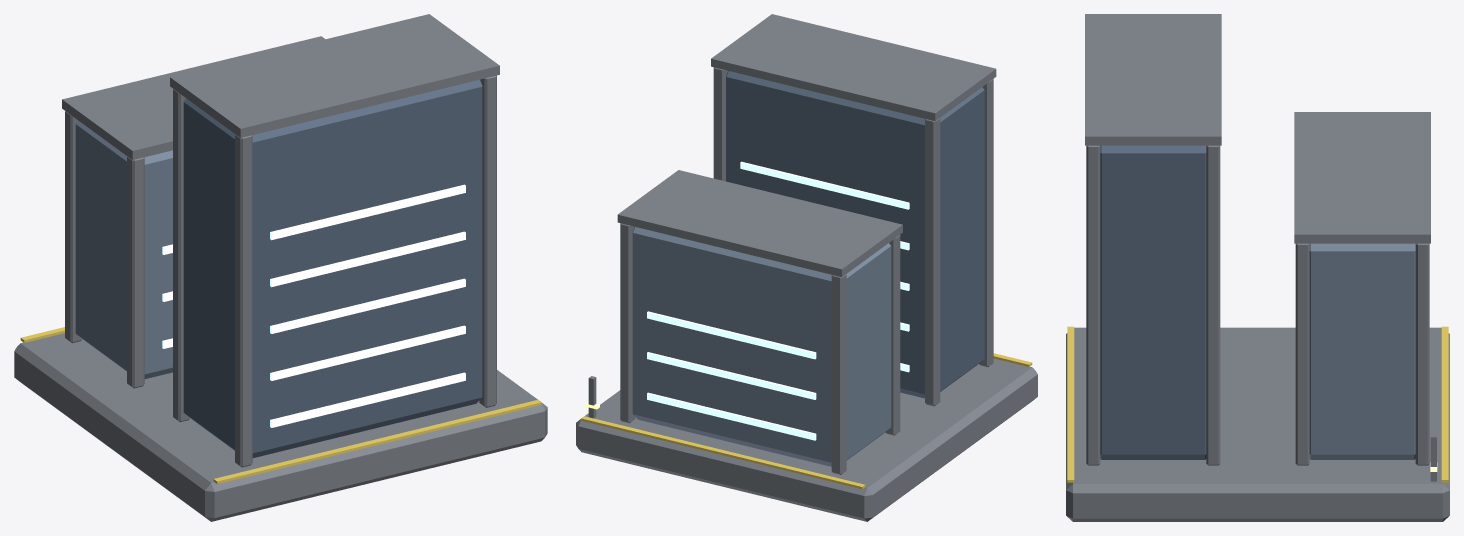
Rendered from zone_high_5_t1.glb.
3 renders of one model, left to right at view 1: azimuth 30°, elevation 25°; view 2: azimuth 150°, elevation 25°; view 3: azimuth 270°, elevation 25°, orthographic. The views are drawn at different scales.
Visible parts, largest first — view 1: zone_high_5_t1, detail; view 2: zone_high_5_t1, detail; view 3: zone_high_5_t1, detail.
Part boxes in pixels (<box>): zone_high_5_t1: <box>14,14,547,521</box>; detail: <box>20,327,541,483</box>; zone_high_5_t1: <box>576,14,1037,521</box>; detail: <box>581,353,1032,488</box>; zone_high_5_t1: <box>1066,14,1449,521</box>; detail: <box>1067,326,1448,482</box>.
Bounding box in the file's own units: 27.5 × 29.12 × 27.5.
